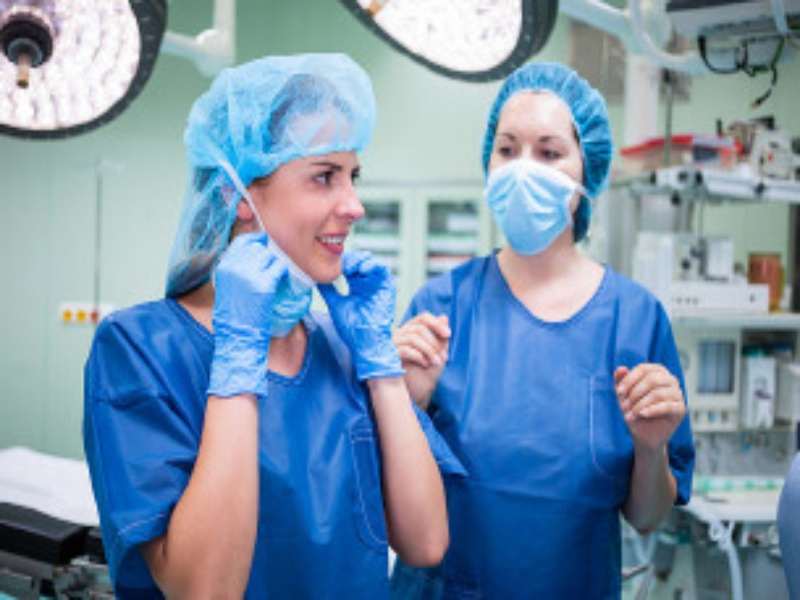mask: (475, 94, 598, 257)
